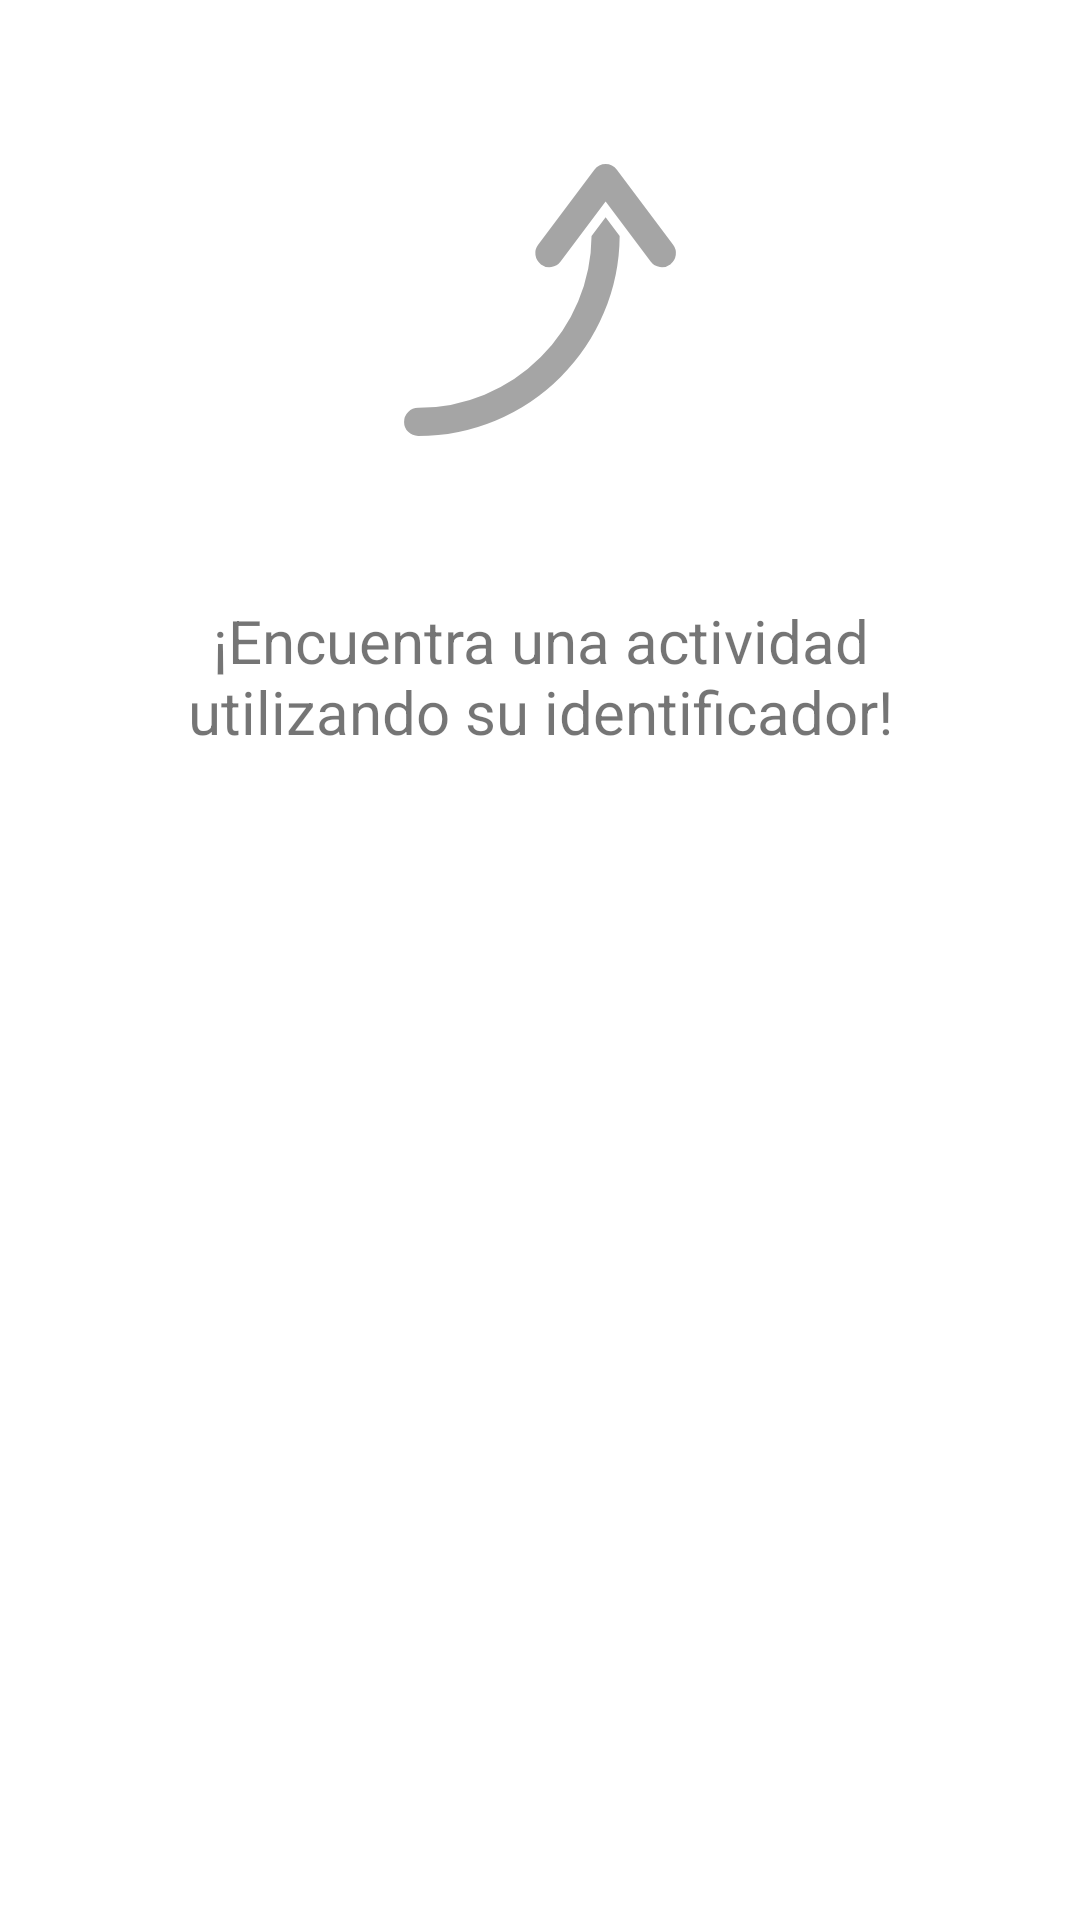

Icons on this 1080×1920 Android screen, each with the point to tap as point (x, y):
arrow up: point (540, 300)
